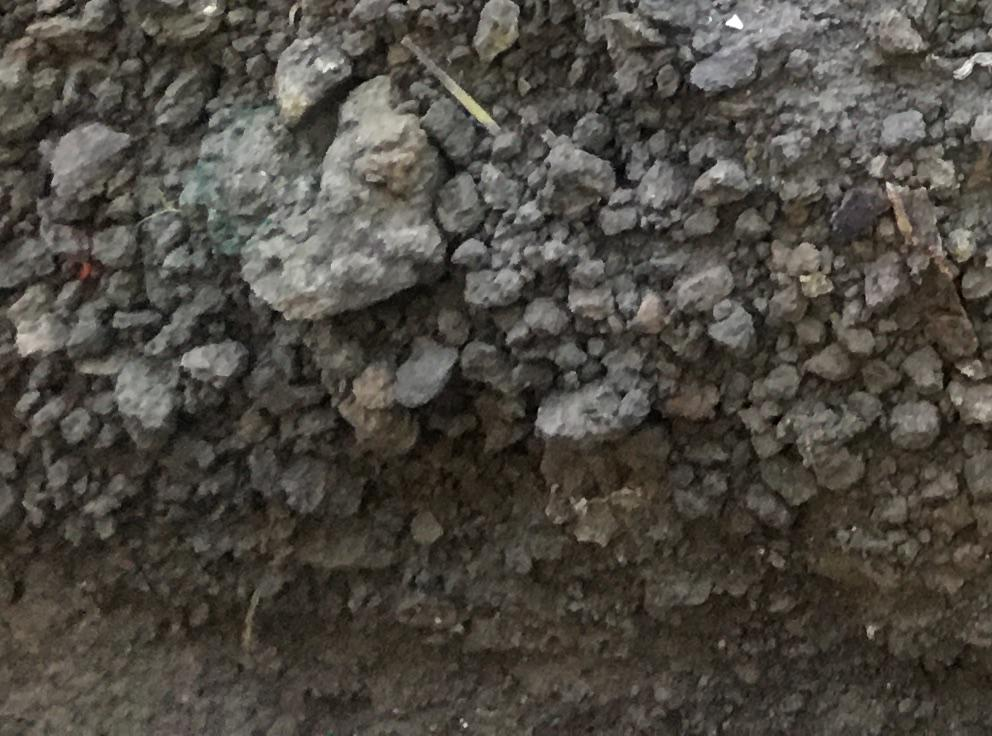block: (247, 83, 451, 318)
